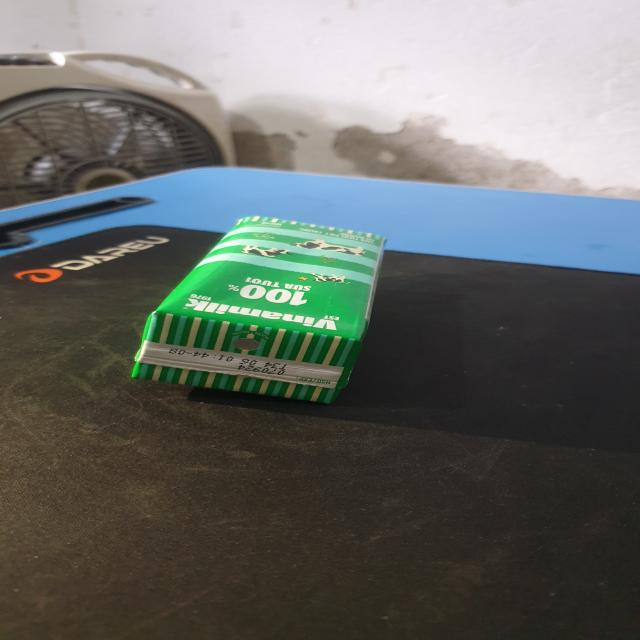Vina: (129, 215, 389, 408)
